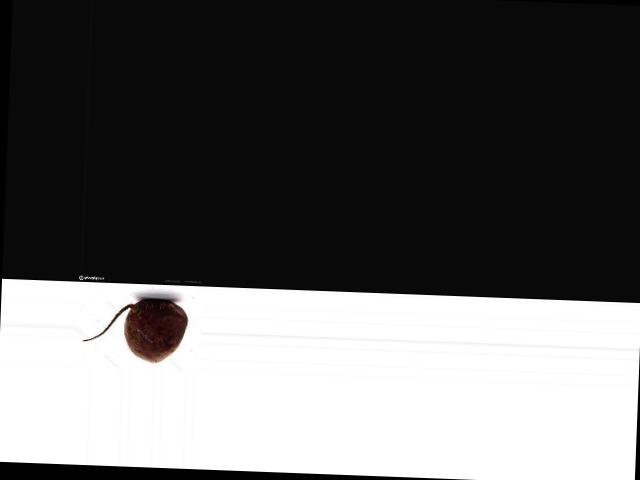beet: (82, 296, 188, 362)
